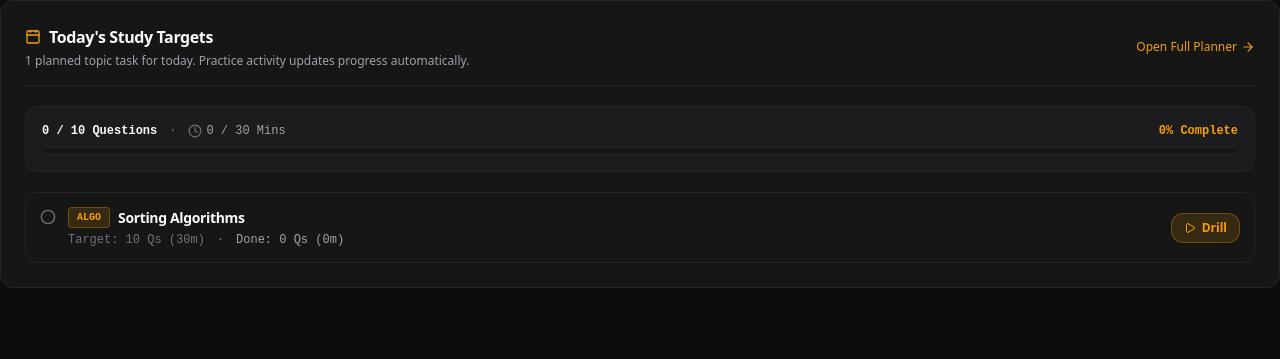
Test: TodayCard Component › 4. clicking status toggle invokes update mutation and handles failure rollback
Click the button with test id "today-status-toggle-item-1": point(48, 217) [40,209,56,225]
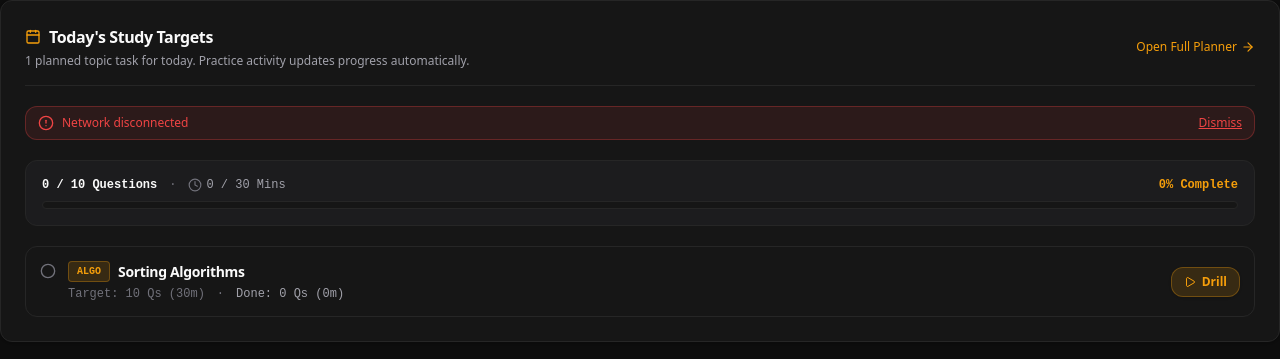
Result: the element with test id "today-error-banner" is shown at [25,106,1255,140]
Result: the text "Network disconnected" is shown at [62,115,188,131]
